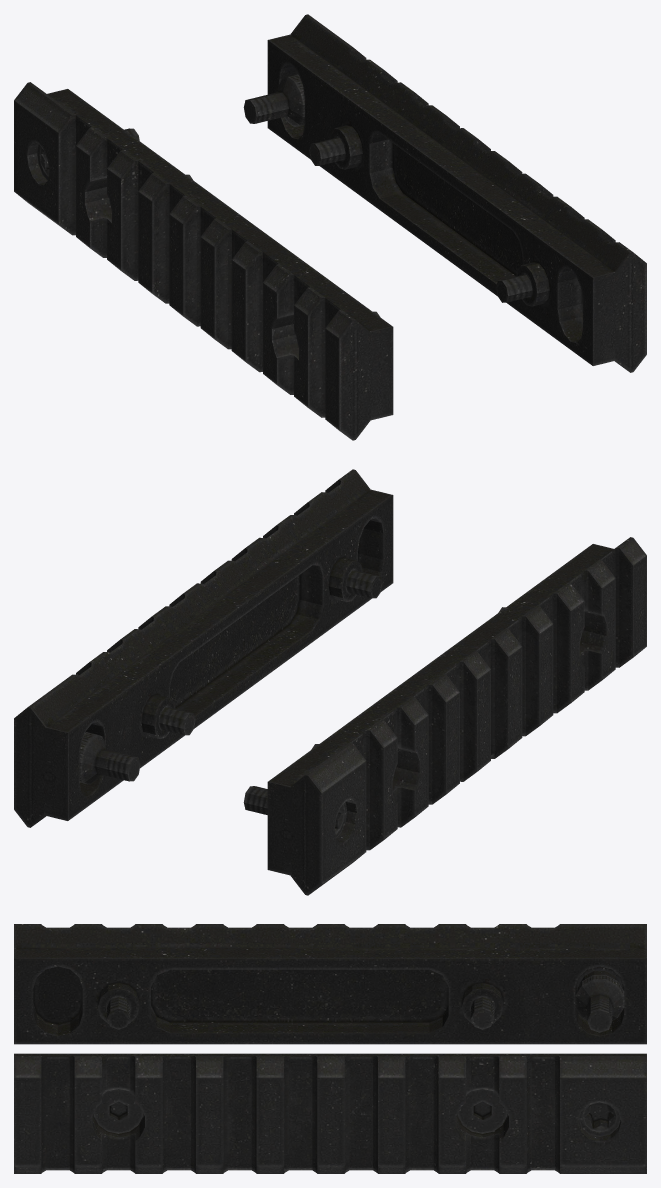
The picture shows the model from 3 angles, top to bottom: view 1: azimuth 30°, elevation 25°; view 2: azimuth 150°, elevation 25°; view 3: azimuth 270°, elevation 25°; orthographic projection. The views are drawn at different scales.
Visible parts, largest first — view 1: TW_61816dfa6ef05c2ce828f1ad_PZ_Import; view 2: TW_61816dfa6ef05c2ce828f1ad_PZ_Import; view 3: TW_61816dfa6ef05c2ce828f1ad_PZ_Import.
Boxes of the visible parts, box(x1,y1,x2,y2) form: TW_61816dfa6ef05c2ce828f1ad_PZ_Import: box(14, 14, 646, 440); TW_61816dfa6ef05c2ce828f1ad_PZ_Import: box(14, 469, 646, 895); TW_61816dfa6ef05c2ce828f1ad_PZ_Import: box(14, 924, 646, 1173).
Size of the model in its own units: 0.0329 by 0.0603 by 0.0123.
Materials: 1 (1 with a texture image).
